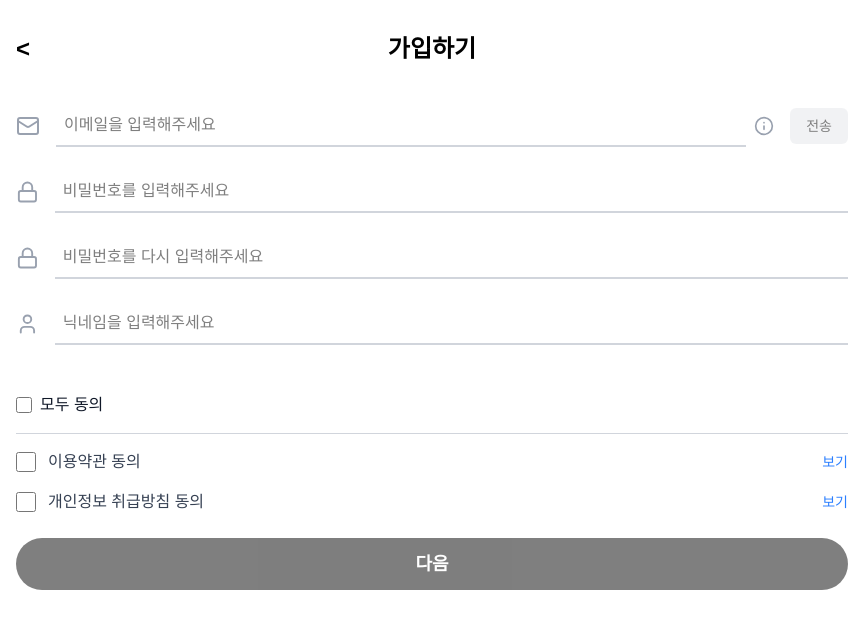
Auth Problem Details migration › 회원가입 인증 메일 발송 실패 시 ProblemDetail.detail을 보여준다
In the field with placeholder "이메일을 입력해주세요": (401, 126) [56, 106, 746, 148], type "tester@example.com"
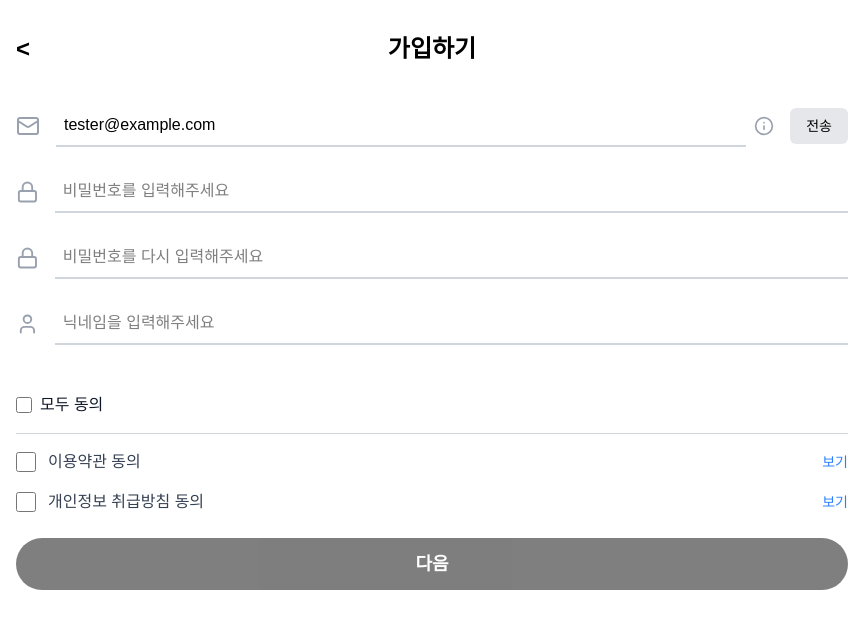
Click the button "전송": click(819, 126) [790, 108, 848, 144]
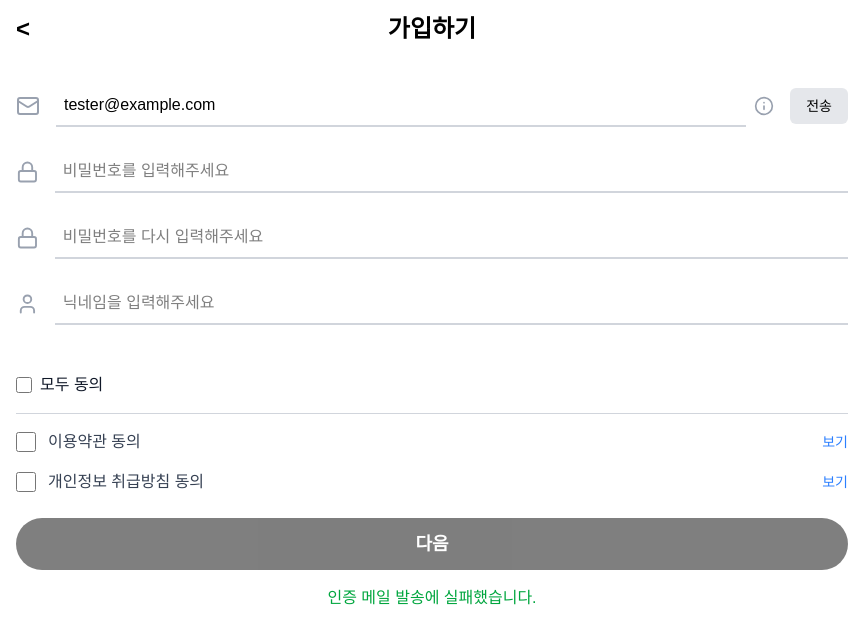
Result: the text "인증 메일 발송에 실패했습니다." is shown at [327, 590, 537, 606]
